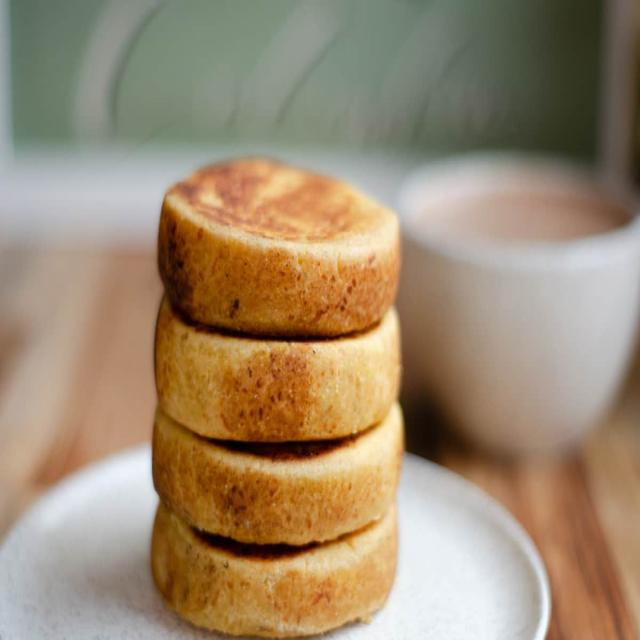arepa: (148, 151, 411, 346)
